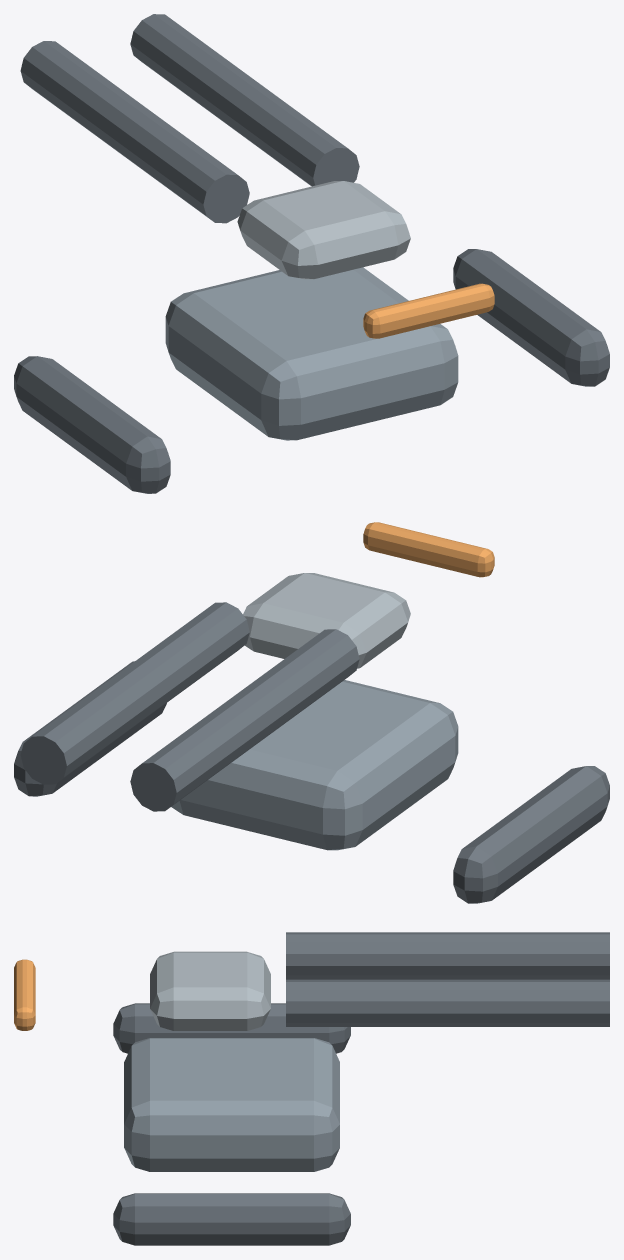
The model's file is dir_bulwark_tank.glb.
The picture shows the model from 3 angles, top to bottom: view 1: azimuth 30°, elevation 25°; view 2: azimuth 150°, elevation 25°; view 3: azimuth 270°, elevation 25°; orthographic projection. The views are drawn at different scales.
Parts seen in each view (by area): view 1: dir_bulwark_tank; view 2: dir_bulwark_tank; view 3: dir_bulwark_tank.
Part boxes in pixels (x1,y1,x2,y2): dir_bulwark_tank: (14, 14, 609, 493); dir_bulwark_tank: (14, 522, 609, 903); dir_bulwark_tank: (14, 932, 609, 1245).
Size of the model in its own units: 1.14 by 0.49 by 1.38.
